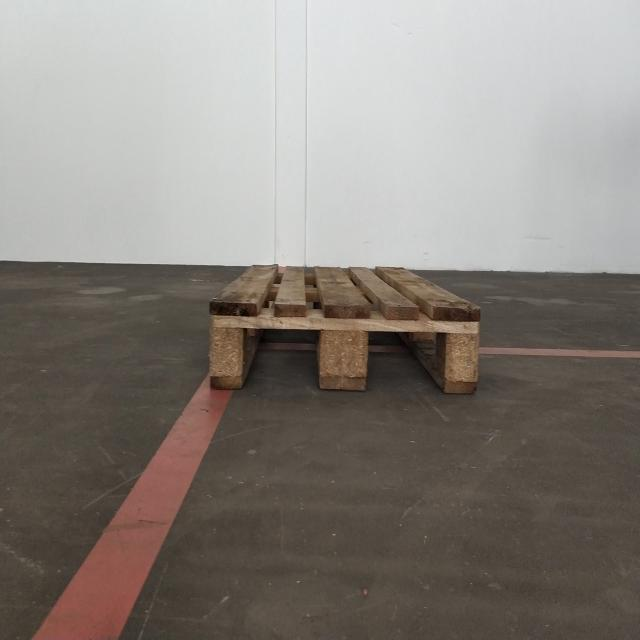block: (318, 303, 370, 393), (441, 305, 484, 396), (206, 300, 246, 391)
front: (207, 294, 482, 398)
